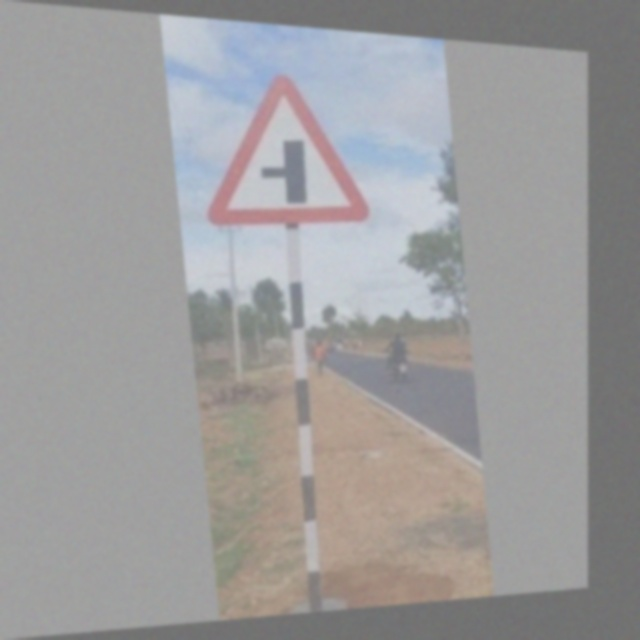Side_Road_Left: (200, 59, 371, 240)
